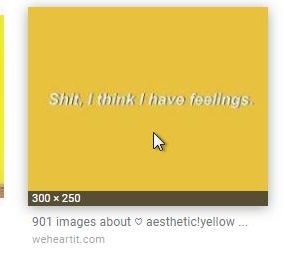cursor: (151, 130, 166, 151)
